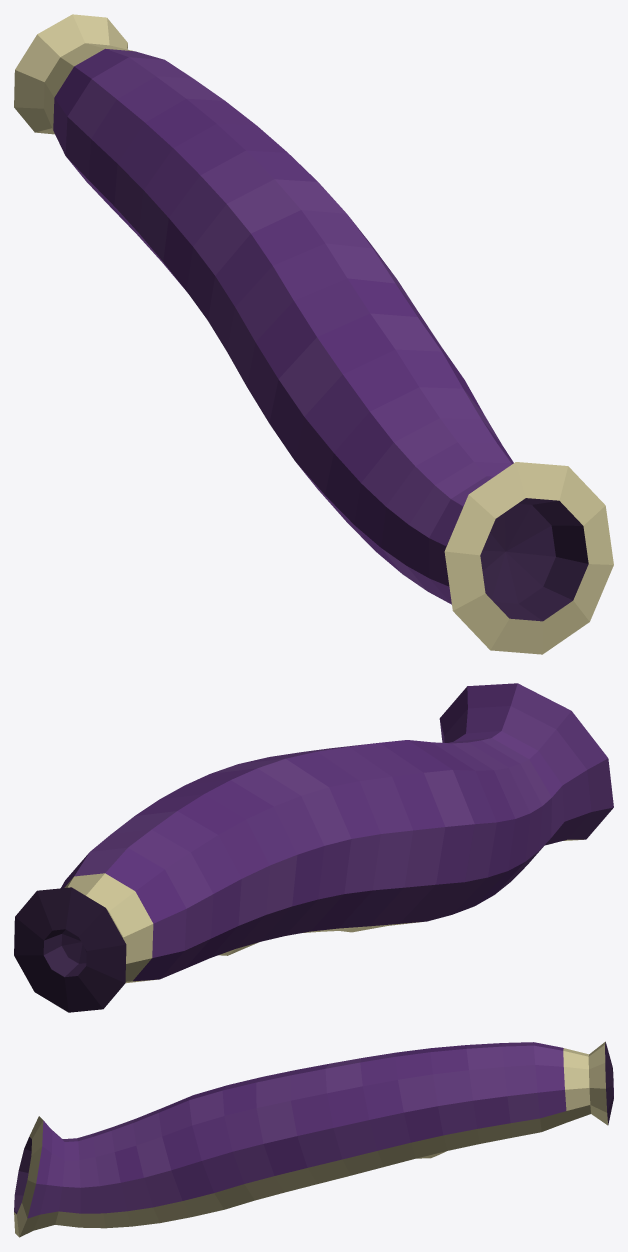
The model's file is Kraken_Blowpipe.glb.
3 views of the same model, one above another, from view 1: azimuth 30°, elevation 25°; view 2: azimuth 150°, elevation 25°; view 3: azimuth 270°, elevation 25° (orthographic). The views are drawn at different scales.
Visible parts, largest first — view 1: Kraken_Blowpipe; view 2: Kraken_Blowpipe; view 3: Kraken_Blowpipe.
Boxes of the visible parts, bbox=[...] form: Kraken_Blowpipe: bbox=[14, 14, 613, 654]; Kraken_Blowpipe: bbox=[14, 683, 613, 1012]; Kraken_Blowpipe: bbox=[14, 1041, 613, 1237].
Size of the model in its own units: 0.0975 by 0.1638 by 0.4739.
